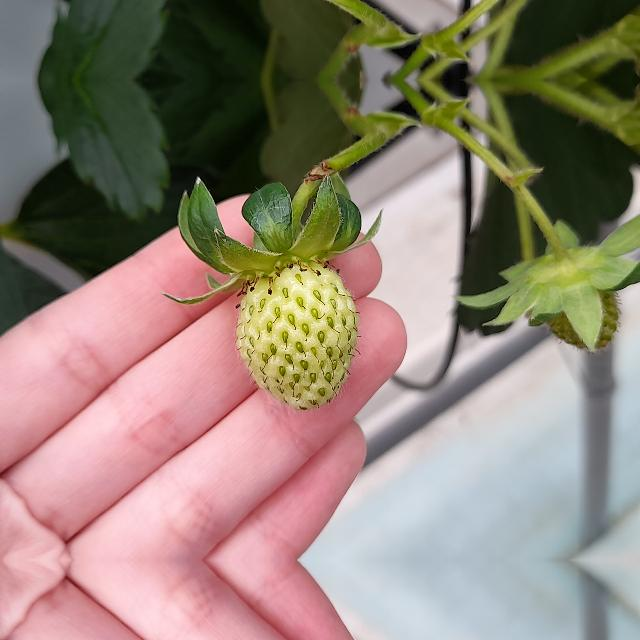Health_25: (235, 260, 358, 410)
